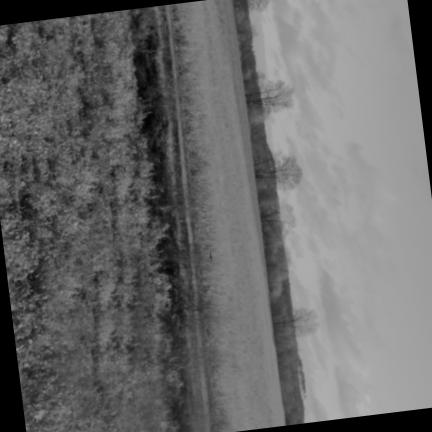Shahed: (207, 251, 211, 263)
